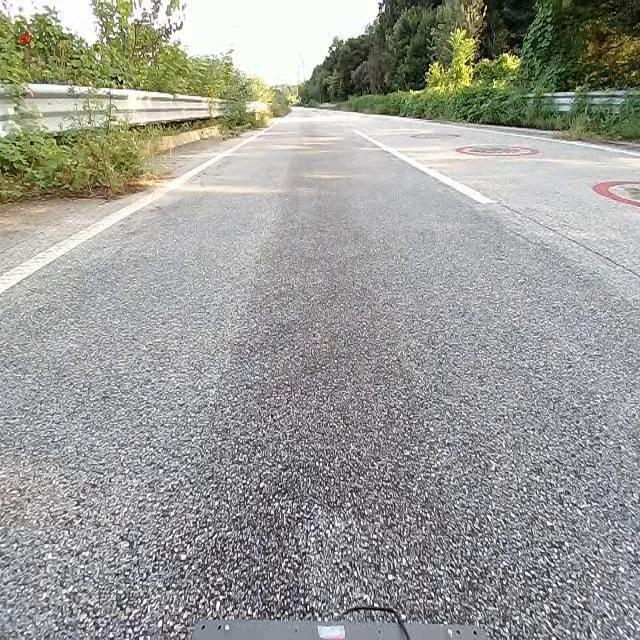Lane: (0, 107, 273, 300), (0, 131, 261, 298), (345, 120, 505, 212), (355, 130, 494, 203)
